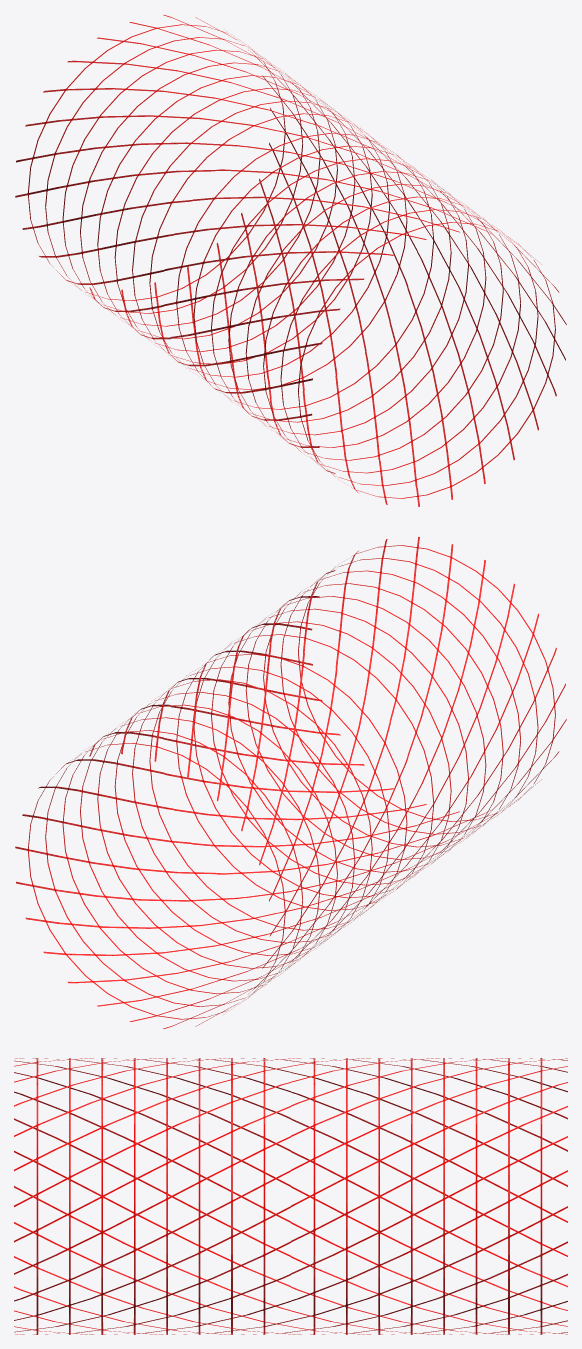
Rendered from Tunnel.fbx.
3 renders of one model, top to bottom at view 1: azimuth 30°, elevation 25°; view 2: azimuth 150°, elevation 25°; view 3: azimuth 270°, elevation 25°, orthographic. The views are drawn at different scales.
Visible parts, largest first — view 1: Cylinder.001; view 2: Cylinder.001; view 3: Cylinder.001.
Part boxes in pixels (box(x1,y1,x2,y2)): Cylinder.001: box(15, 15, 566, 506); Cylinder.001: box(15, 537, 566, 1028); Cylinder.001: box(14, 1058, 567, 1334).
Bounding box in the file's own units: 1600 × 1600 × 3200.
